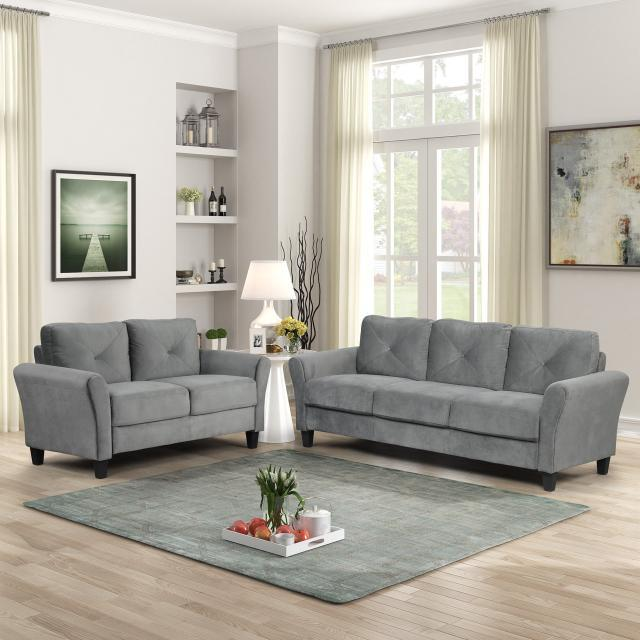sofa: (288, 314, 628, 492), (12, 316, 270, 479)
